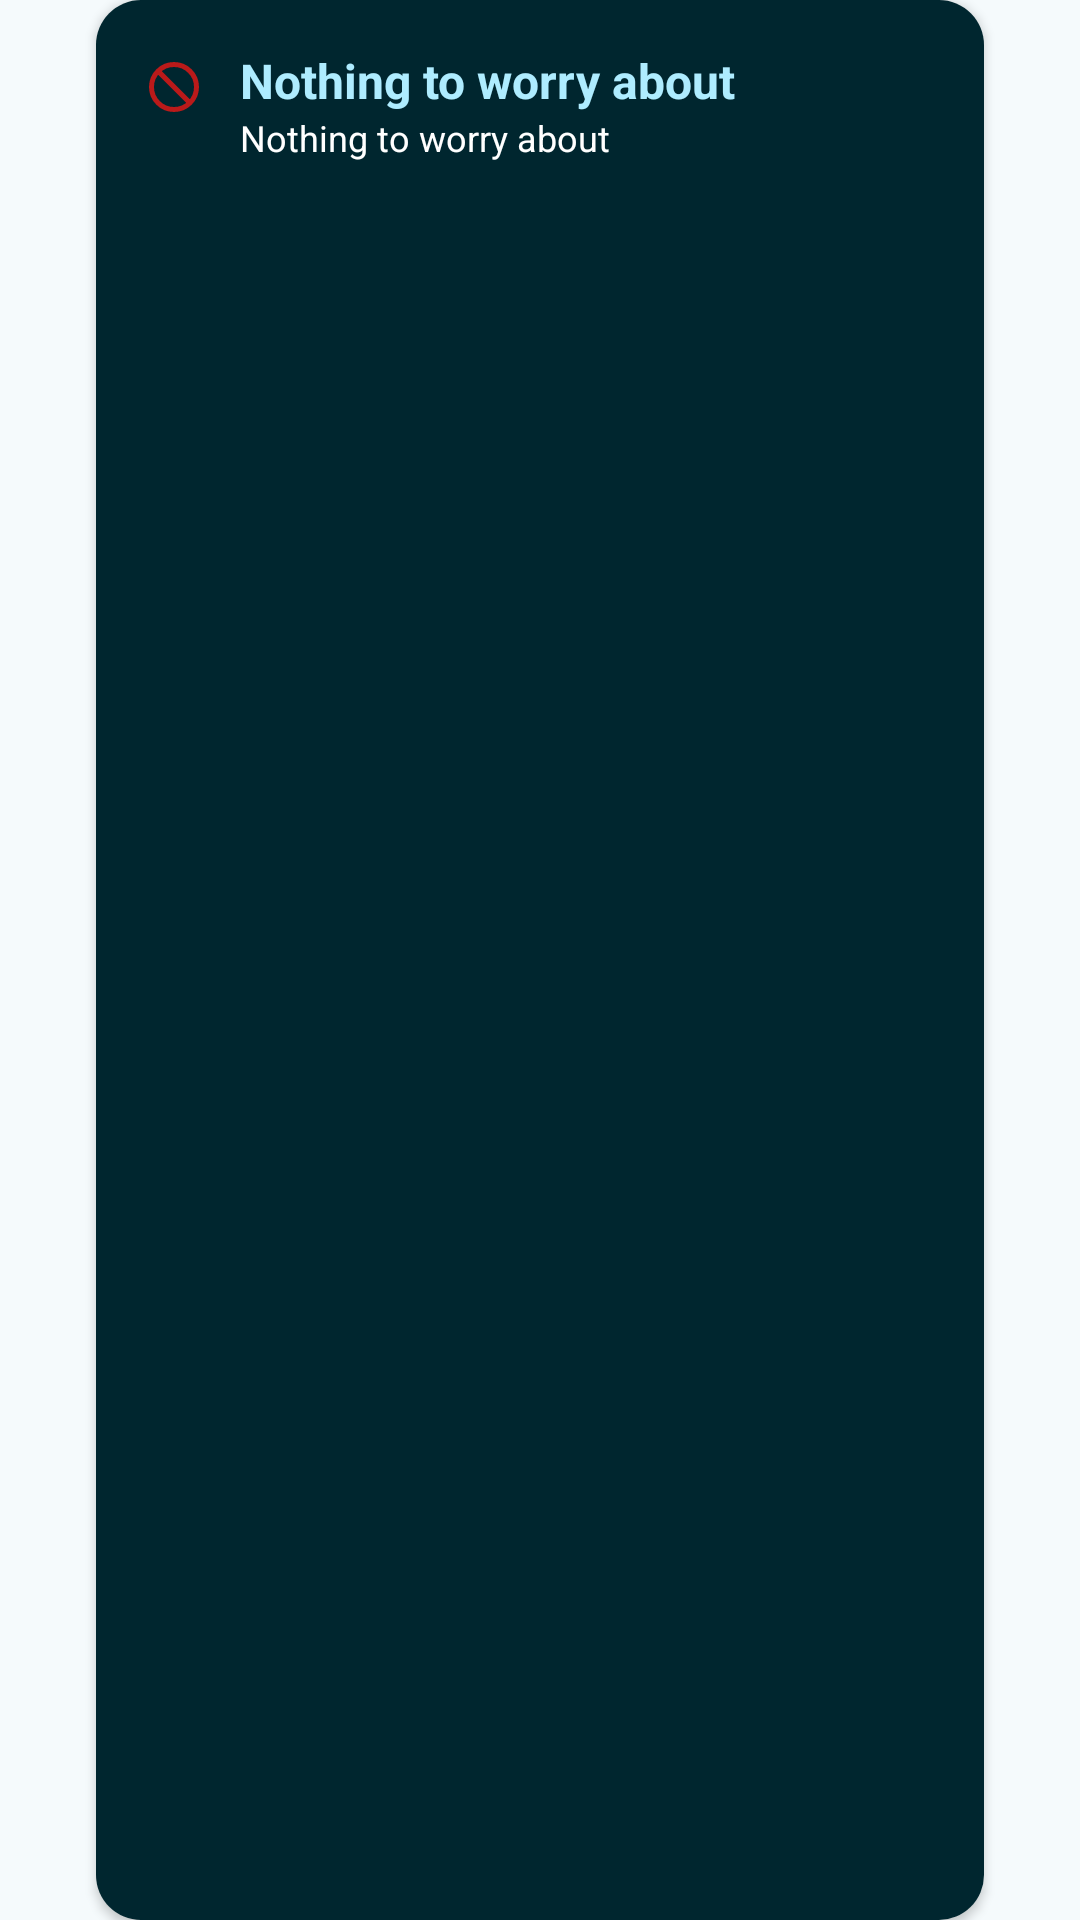

Icon click points for this 1080px×1920px phone screenshot, format (x,y):
error: (174,87)
